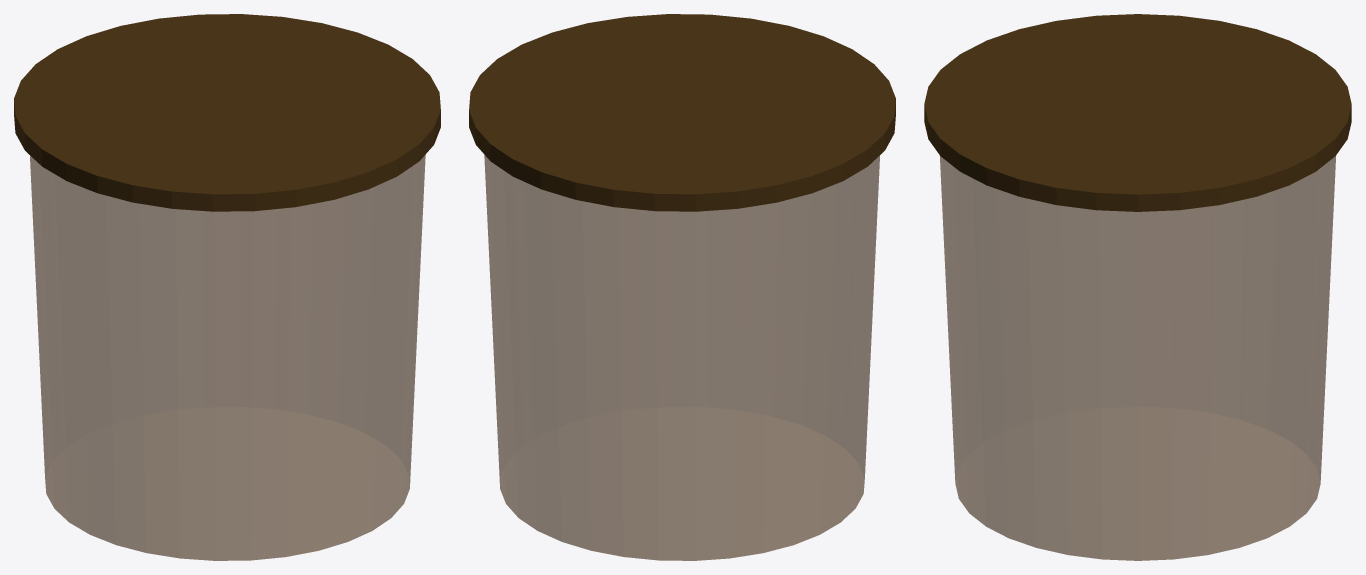
The model's file is OBJEK6.fbx.
The picture shows the model from 3 angles, left to right: view 1: azimuth 30°, elevation 25°; view 2: azimuth 150°, elevation 25°; view 3: azimuth 270°, elevation 25°; orthographic projection.
Parts seen in each view (by area): view 1: Cylinder.001; view 2: Cylinder.001; view 3: Cylinder.001.
Part boxes in pixels (x1,y1,x2,y2): Cylinder.001: (14,14,440,560); Cylinder.001: (469,14,895,560); Cylinder.001: (924,14,1351,560).
Size of the model in its own units: 80.49 by 78.82 by 80.49.
